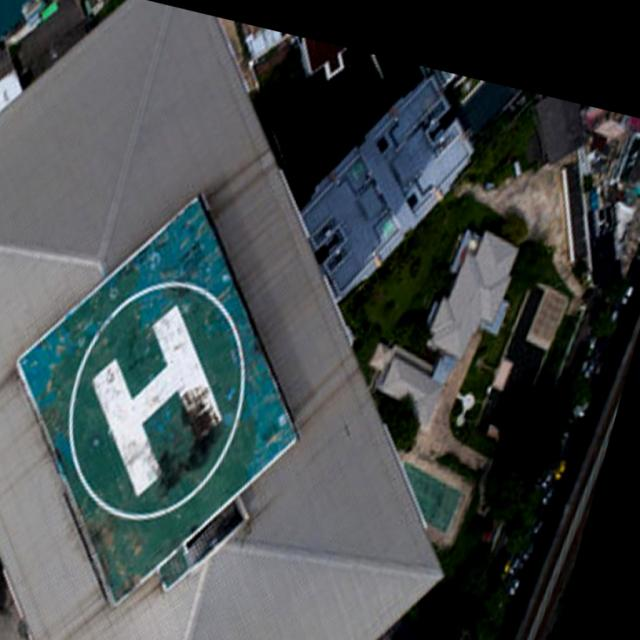helipad: (58, 274, 251, 526)
